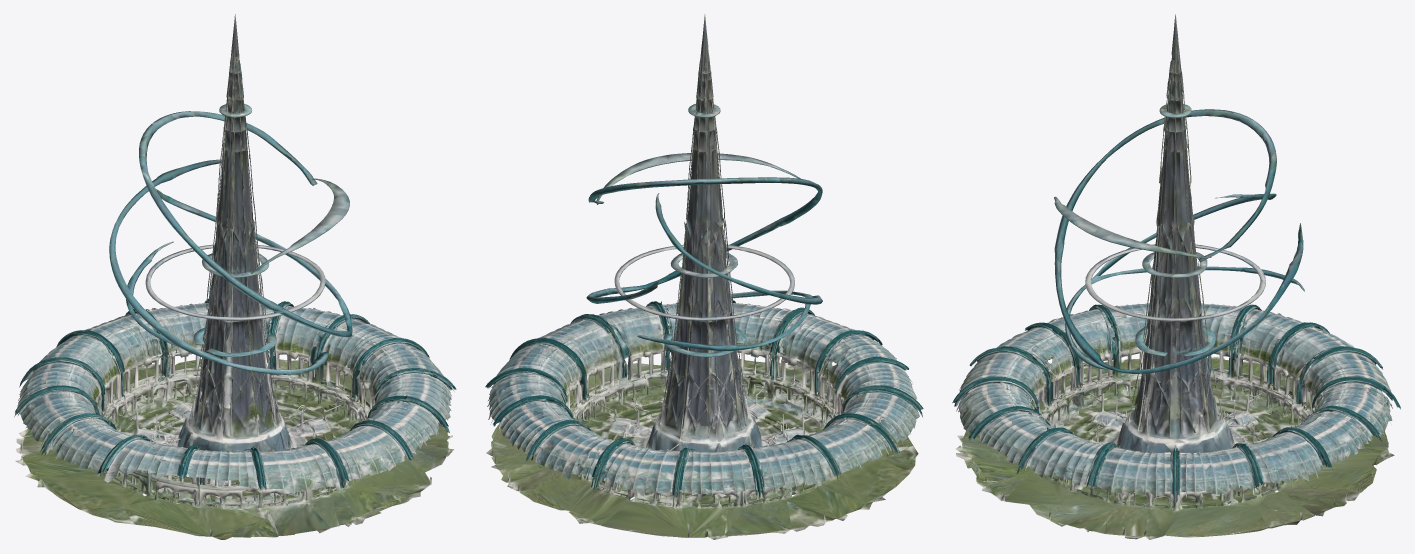
3 views of the same model, side by side, from view 1: azimuth 30°, elevation 25°; view 2: azimuth 150°, elevation 25°; view 3: azimuth 270°, elevation 25° (orthographic).
Parts seen in each view (by area): view 1: object 1, ring0, ring1, ring2; view 2: object 1, ring0, ring1, ring2; view 3: object 1, ring0, ring1, ring2.
Part boxes in pixels (left/top/right/bottom): object 1: left=14, top=14, right=456, bottom=539; ring0: left=139, top=111, right=352, bottom=336; ring1: left=109, top=159, right=328, bottom=374; ring2: left=145, top=244, right=325, bottom=320; object 1: left=485, top=14, right=923, bottom=539; ring0: left=586, top=153, right=822, bottom=303; ring1: left=637, top=193, right=822, bottom=350; ring2: left=614, top=244, right=794, bottom=320; object 1: left=952, top=14, right=1400, bottom=539; ring0: left=1054, top=109, right=1303, bottom=373; ring1: left=1065, top=193, right=1304, bottom=369; ring2: left=1085, top=244, right=1265, bottom=321.
Size of the model in its own units: 1.74 by 1.85 by 1.74.
Materials: 1 (1 with a texture image).
